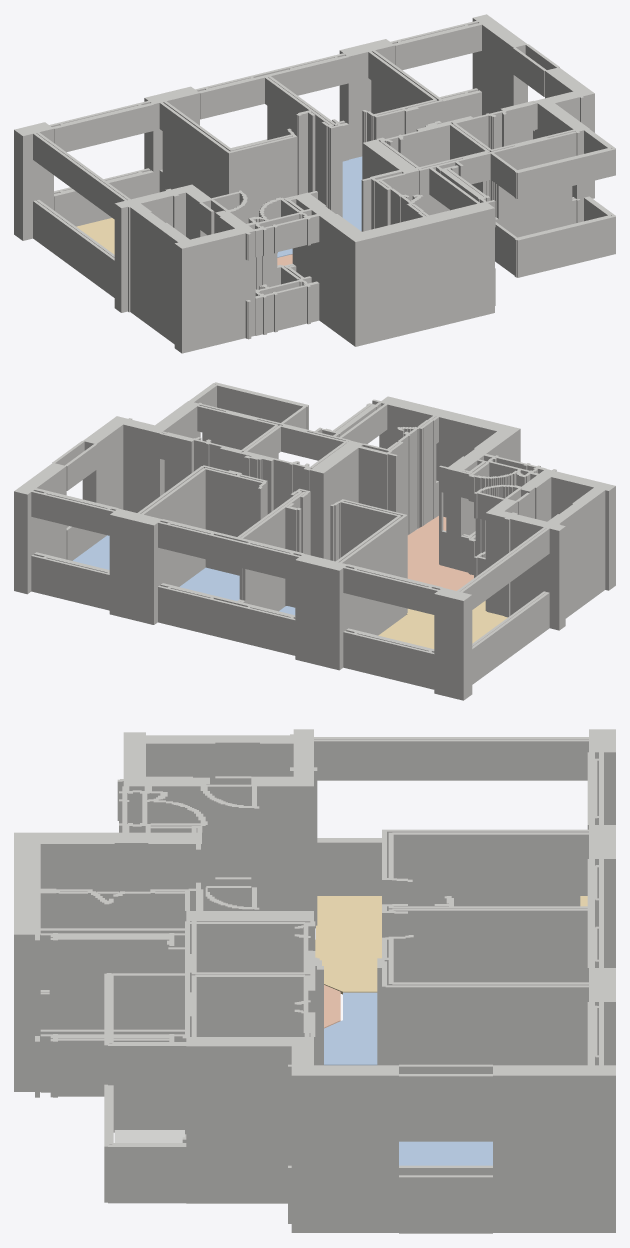
The picture shows the model from 3 angles, top to bottom: view 1: azimuth 30°, elevation 25°; view 2: azimuth 150°, elevation 25°; view 3: azimuth 270°, elevation 25°; orthographic projection. The views are drawn at different scales.
Parts seen in each view (by area): view 1: walls, room:bedroom:2, room:living:0; view 2: walls, room:kitchen:6, room:living:0, room:bedroom:2, room:bedroom:3; view 3: walls, room:living:0, room:bedroom:1, room:bedroom:3, room:ledge:8.
Boxes of the visible parts, x1,y1,x2,y2 form: walls: [14, 14, 615, 353]; room:bedroom:2: [342, 156, 362, 231]; room:living:0: [76, 218, 114, 254]; walls: [14, 382, 615, 700]; room:kitchen:6: [407, 516, 473, 590]; room:living:0: [378, 600, 507, 648]; room:bedroom:2: [180, 567, 239, 600]; room:bedroom:3: [73, 535, 109, 569]; walls: [14, 729, 615, 1233]; room:living:0: [315, 896, 587, 994]; room:bedroom:1: [324, 992, 377, 1065]; room:bedroom:3: [399, 1141, 492, 1165]; room:ledge:8: [114, 1130, 184, 1142].
Bounding box in the file's own units: 13.24 × 2.8 × 9.71.
